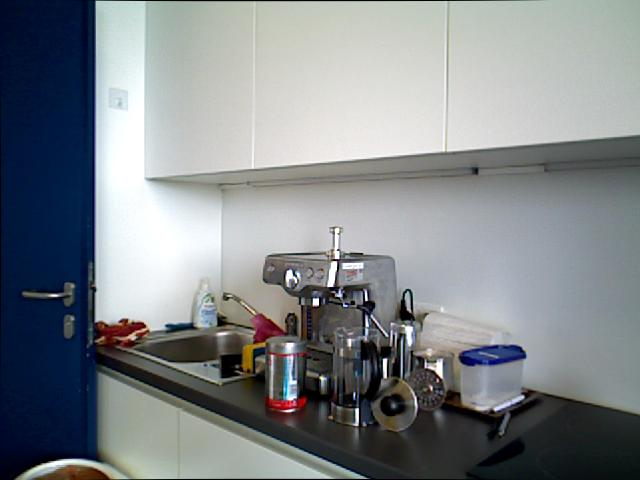bench: (191, 276, 218, 330)
couch: (130, 320, 272, 370)
handbag: (326, 323, 386, 428)
